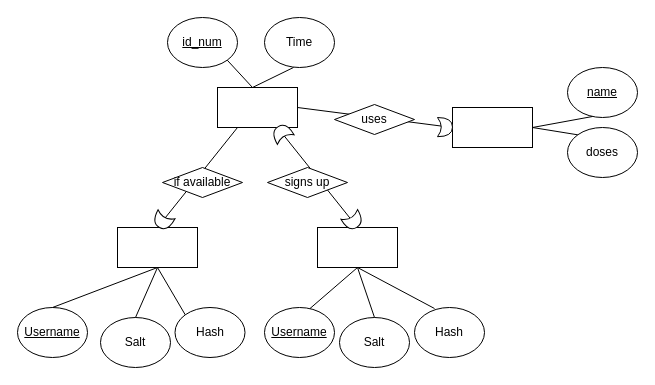
Image size: 655x385. Some labels were removed from this diagram. The shapes that lost their labels are listed below. From the top down, each one's centre as x and y in pixels, then its label:
At (257,107): "Appointments".
At (492,127): "Vaccines".
At (157,247): "Caregiver".
At (357,247): "Patient".
